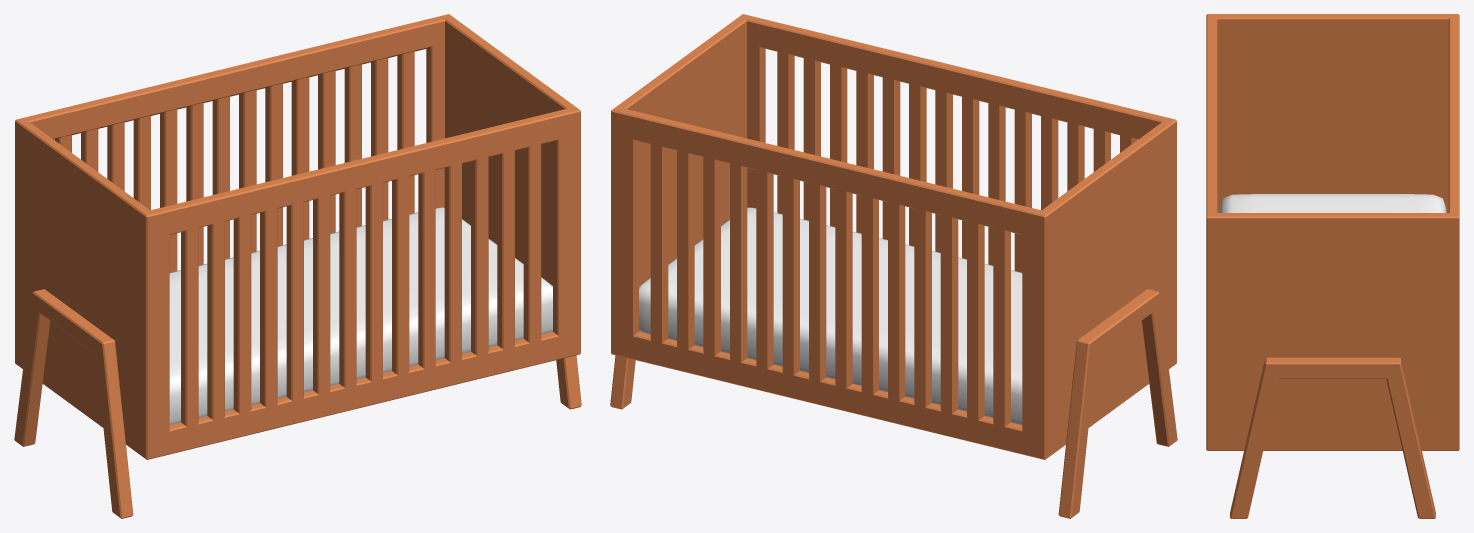
Rendered from Crib_V2.fbx.
The picture shows the model from 3 angles, left to right: view 1: azimuth 30°, elevation 25°; view 2: azimuth 150°, elevation 25°; view 3: azimuth 270°, elevation 25°; orthographic projection. The views are drawn at different scales.
Parts seen in each view (by area): view 1: Crib_V2; view 2: Crib_V2; view 3: Crib_V2.
Part boxes in pixels (x1,y1,x2,y2): Crib_V2: [14, 14, 581, 518]; Crib_V2: [610, 14, 1177, 518]; Crib_V2: [1206, 14, 1459, 518].
Bounding box in the file's own units: 153 × 98 × 76.
